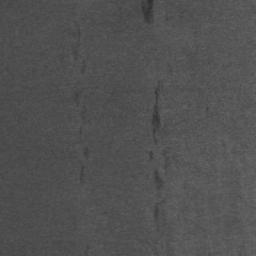Iron scale compression: (152, 91, 160, 143), (142, 0, 153, 22), (153, 171, 162, 195), (153, 205, 159, 229), (79, 168, 83, 182), (85, 149, 90, 160), (148, 151, 154, 160)
